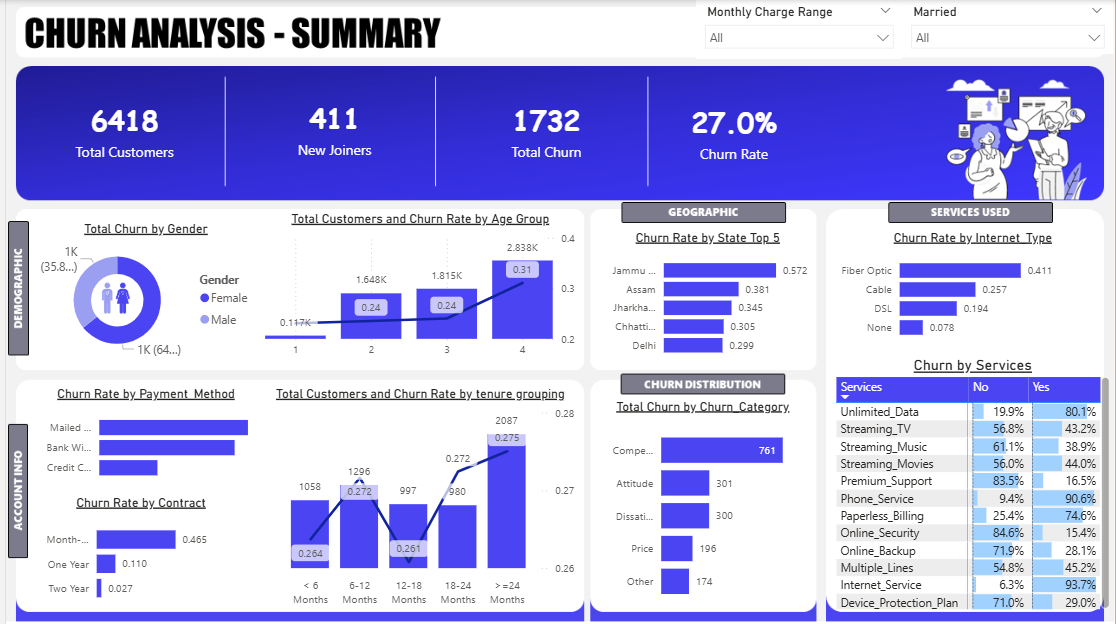

The page's visual inventory and layout, read from the dashboard file:
{"tool":"powerbi","page":{"name":"Dashboard","canvas":[1280,720],"ordinal":0},"visuals":[{"type":"image","box":[98.1,320.3,57.7,46.2],"z":0},{"type":"card","fields":{"Values":["tbl_Measures.Total Customers"]},"box":[33.2,80.8,207.8,138.5],"z":1000},{"type":"card","fields":{"Values":["tbl_Measures.Total Churn"]},"box":[526.6,80.8,194.8,138.5],"z":2000},{"type":"card","fields":{"Values":["tbl_Measures.New Joiners"]},"box":[281.3,76.5,196.2,142.8],"z":3000},{"type":"card","fields":{"Values":["tbl_Measures.Churn Rate"]},"box":[754.6,86.6,171.7,132.7],"z":4000},{"type":"donutChart","fields":{"Category":["prod_Churn.Gender"],"Y":["tbl_Measures.Total Churn"]},"box":[28.9,255.4,265.5,165.9],"z":5000},{"type":"lineClusteredColumnComboChart","title":"Total Customers and Churn Rate by Age Group ","fields":{"Category":["mapping_AgeGrp.agegroupsorting"],"Y":["tbl_Measures.Total Customers"],"Y2":["tbl_Measures.Churn Rate"]},"box":[294.3,243.8,367.9,177.5],"z":6000},{"type":"clusteredBarChart","fields":{"Category":["prod_Churn.Payment_Method"],"Y":["tbl_Measures.Churn Rate"]},"box":[28.9,445.8,265.5,118.3],"z":7000},{"type":"clusteredBarChart","fields":{"Category":["prod_Churn.Contract"],"Y":["tbl_Measures.Churn Rate"]},"box":[28.9,571.3,253.9,135.6],"z":8000},{"type":"clusteredBarChart","title":"Churn Rate by State Top 5","fields":{"Category":["prod_Churn.State"],"Y":["tbl_Measures.Churn Rate"]},"box":[682.4,265.5,255.4,155.8],"z":9000},{"type":"clusteredBarChart","fields":{"Category":["prod_Churn.Churn_Category"],"Y":["tbl_Measures.Total Churn"]},"box":[682.4,460.2,243.8,246.7],"z":10000},{"type":"pivotTable","title":"Churn by Services","fields":{"Columns":["prod_Services.Status"],"Rows":["prod_Services.Services"],"Values":["Sum(prod_Services.Churn Status)"]},"box":[953.7,411.2,324.6,297.2],"z":11000},{"type":"clusteredBarChart","fields":{"Category":["prod_Churn.Internet_Type"],"Y":["tbl_Measures.Churn Rate"]},"box":[953.7,265.5,324.6,135.6],"z":12000},{"type":"lineStackedColumnComboChart","fields":{"Category":["mapping_tenure_month.tenure grouping"],"Y":["tbl_Measures.Total Customers"],"Y2":["tbl_Measures.Churn Rate"]},"box":[294.3,445.8,367.9,261.1],"z":13000},{"type":"slicer","fields":{"Values":["prod_Churn.Monthly_Charge_Status"]},"box":[796.4,0,238.1,67.8],"z":14000},{"type":"slicer","fields":{"Values":["prod_Churn.Married"]},"box":[1034.5,0,243.8,62],"z":15000}]}

Visuals, with their boxes in screenshot pixels (x1, y1, x2, y2), scaled from the page's 1280x720 canvas onto the 1116x624 screenshot:
image: box(86, 278, 136, 318)
card - tbl_Measures.Total Customers: box(29, 70, 210, 190)
card - tbl_Measures.Total Churn: box(459, 70, 629, 190)
card - tbl_Measures.New Joiners: box(245, 66, 416, 190)
card - tbl_Measures.Churn Rate: box(658, 75, 808, 190)
donutChart - prod_Churn.Gender x tbl_Measures.Total Churn: box(25, 221, 257, 365)
"Total Customers and Churn Rate by Age Group " lineClusteredColumnComboChart: box(257, 211, 577, 365)
clusteredBarChart - prod_Churn.Payment_Method x tbl_Measures.Churn Rate: box(25, 386, 257, 489)
clusteredBarChart - prod_Churn.Contract x tbl_Measures.Churn Rate: box(25, 495, 247, 613)
"Churn Rate by State Top 5" clusteredBarChart: box(595, 230, 818, 365)
clusteredBarChart - prod_Churn.Churn_Category x tbl_Measures.Total Churn: box(595, 399, 808, 613)
"Churn by Services" pivotTable: box(832, 356, 1115, 614)
clusteredBarChart - prod_Churn.Internet_Type x tbl_Measures.Churn Rate: box(832, 230, 1115, 348)
lineStackedColumnComboChart - mapping_tenure_month.tenure grouping x tbl_Measures.Total Customers: box(257, 386, 577, 613)
slicer - prod_Churn.Monthly_Charge_Status: box(694, 0, 902, 59)
slicer - prod_Churn.Married: box(902, 0, 1115, 54)
